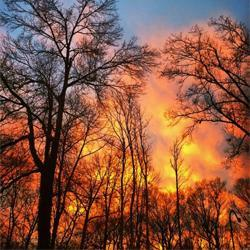fire: (155, 109, 214, 188), (77, 120, 129, 179), (67, 199, 91, 216)
